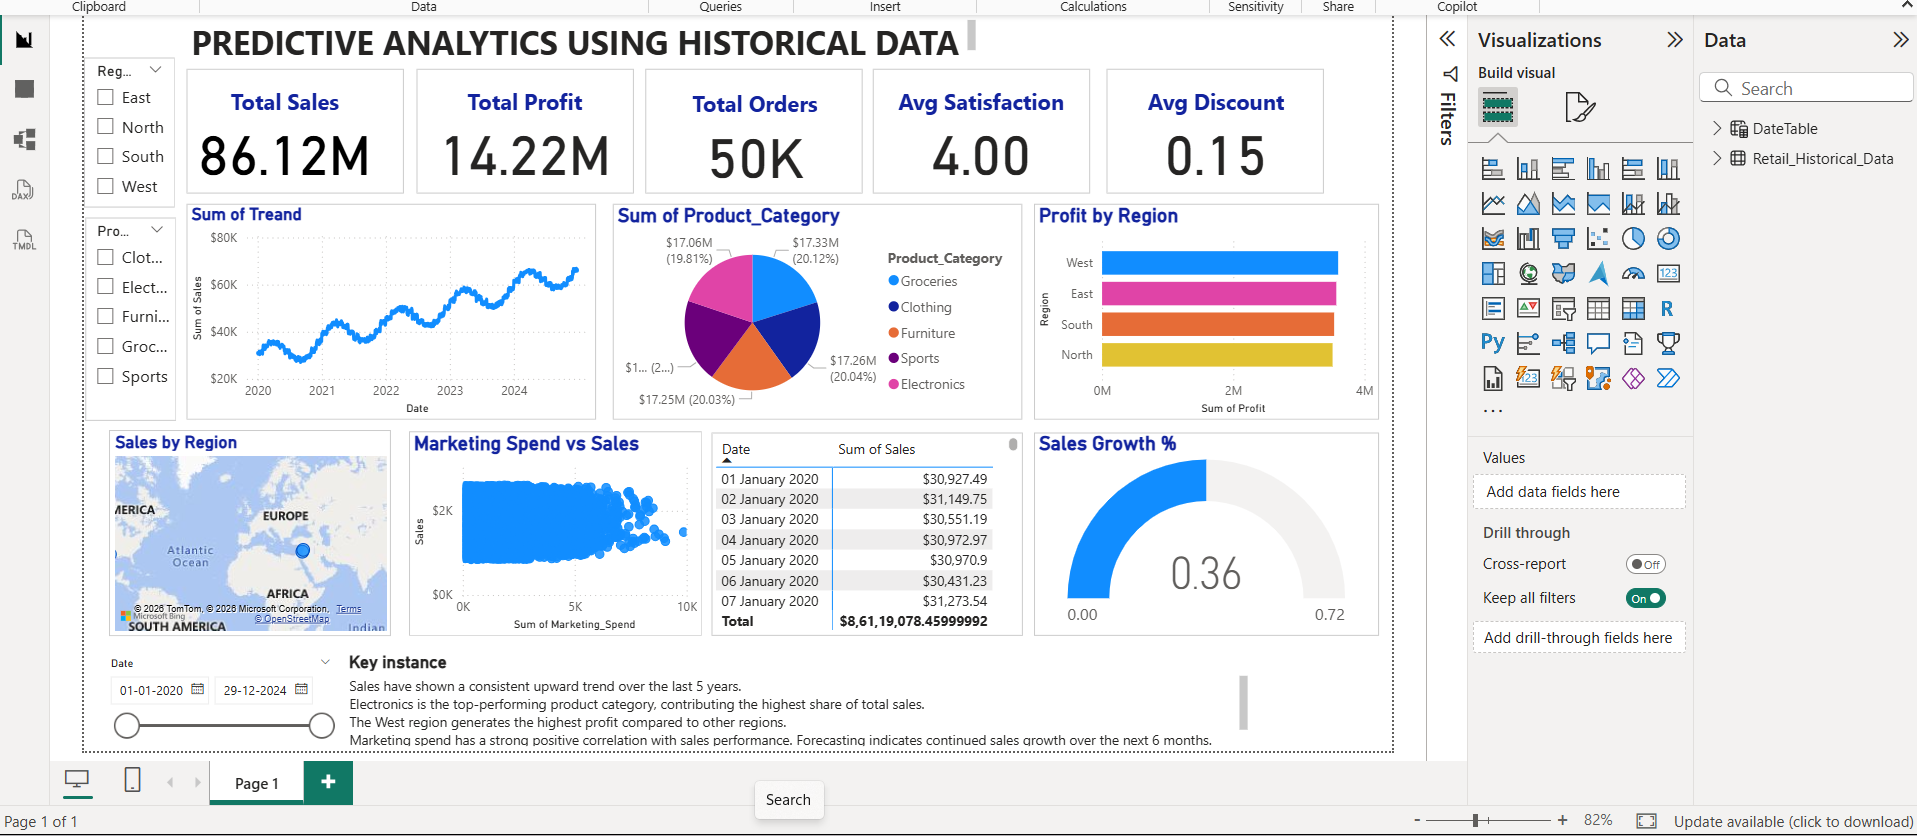

This screenshot's page, from the dashboard's own definition file:
{"tool":"powerbi","page":{"name":"Page 1","canvas":[1280,720],"ordinal":0},"visuals":[{"type":"shape","box":[1.4,197.6,89.2,199],"z":0},{"type":"slicer","fields":{"Values":["Retail_Historical_Data.Product_Category"]},"box":[0,197.6,90.6,199],"z":1000},{"type":"shape","box":[0,41.2,89.2,146.8],"z":2000},{"type":"shape","box":[613.4,408.9,304.6,199],"z":3000},{"type":"shape","box":[929,408.9,337.6,199],"z":4000},{"type":"shape","box":[24.7,406.2,275.8,201.7],"z":5000},{"type":"shape","box":[1000.3,52.1,212.7,122.1],"z":6000},{"type":"shape","box":[318.4,407.5,286.8,200.3],"z":7000},{"type":"shape","box":[929,185.2,337.6,211.3],"z":8000},{"type":"shape","box":[517.3,185.2,400.7,211.3],"z":9000},{"type":"pieChart","title":"Sum of Product_Category","fields":{"Category":["Retail_Historical_Data.Product_Category"],"Y":["Sum(Retail_Historical_Data.Sales)"]},"box":[517.3,185.2,400.7,211.3],"z":10000},{"type":"shape","box":[100.2,185.2,400.7,211.3],"z":11000},{"type":"shape","box":[325.2,52.1,212.7,122.1],"z":12000},{"type":"cardVisual","fields":{"Data":["Retail_Historical_Data.Total Profit"]},"box":[325.2,52.1,212.7,122.1],"z":13000},{"type":"shape","box":[100.2,52.1,212.7,122.1],"z":14000},{"type":"cardVisual","fields":{"Data":["Retail_Historical_Data.Total Sales"]},"box":[90.6,52.1,212.7,119.4],"z":15000},{"type":"textbox","box":[100.2,0,776.7,52.1],"z":16000},{"type":"shape","box":[548.9,52.1,212.7,122.1],"z":17000},{"type":"shape","box":[771.2,52.1,212.7,122.1],"z":18000},{"type":"cardVisual","fields":{"Data":["Retail_Historical_Data.Total Orders"]},"box":[550.3,54.9,212.7,119.4],"z":19000},{"type":"cardVisual","fields":{"Data":["Retail_Historical_Data.Avg Satisfaction"]},"box":[771.2,52.1,212.7,122.1],"z":20000},{"type":"lineChart","title":"Sum of Treand","fields":{"Category":["Retail_Historical_Data.Date"],"Y":["Sum(Retail_Historical_Data.Sales)"]},"box":[100.2,185.2,400.7,211.3],"z":21000},{"type":"barChart","title":"Profit by Region","fields":{"Category":["Retail_Historical_Data.Region"],"Y":["Sum(Retail_Historical_Data.Profit)"]},"box":[929,185.2,337.6,211.3],"z":22000},{"type":"scatterChart","title":"Marketing Spend vs Sales","fields":{"X":["Sum(Retail_Historical_Data.Marketing_Spend)"],"Y":["Retail_Historical_Data.Sales"]},"box":[318.4,408.9,286.8,199],"z":23000},{"type":"cardVisual","fields":{"Data":["Retail_Historical_Data.Avg Discount"]},"box":[1001.7,52.1,212.7,122.1],"z":24000},{"type":"map","title":"Sales by Region","fields":{"Category":["Retail_Historical_Data.Region"],"Size":["Sum(Retail_Historical_Data.Sales)"]},"box":[26.1,407.5,275.8,200.3],"z":25000},{"type":"gauge","fields":{"Y":["Retail_Historical_Data.Sales Growth %"]},"box":[929,408.9,337.6,199],"z":26000},{"type":"pivotTable","fields":{"Rows":["Retail_Historical_Data.Date"],"Columns":["Retail_Historical_Data.Date"],"Values":["Sum(Retail_Historical_Data.Sales)"]},"box":[613.4,408.9,304.6,199],"z":27000},{"type":"slicer","title":"Date Range","fields":{"Values":["Retail_Historical_Data.Date"]},"box":[13.7,623,240.1,97.4],"z":28000},{"type":"slicer","fields":{"Values":["Retail_Historical_Data.Region"]},"box":[0,41.2,89.2,156.4],"z":29000},{"type":"textbox","title":"Key instance","box":[253.9,623,889.2,97.4],"z":29001}]}

Visuals, with their boxes on the page's 1280x720 design canvas (x1, y1, x2, y2). These are canvas units, not pixel positions in the 1917x836 screenshot, which may show the page scaled, cropped or inside an application window:
shape: [1, 198, 91, 397]
slicer - Retail_Historical_Data.Product_Category: [0, 198, 91, 397]
shape: [0, 41, 89, 188]
shape: [613, 409, 918, 608]
shape: [929, 409, 1267, 608]
shape: [25, 406, 300, 608]
shape: [1000, 52, 1213, 174]
shape: [318, 408, 605, 608]
shape: [929, 185, 1267, 396]
shape: [517, 185, 918, 396]
"Sum of Product_Category" pieChart: [517, 185, 918, 396]
shape: [100, 185, 501, 396]
shape: [325, 52, 538, 174]
cardVisual - Retail_Historical_Data.Total Profit: [325, 52, 538, 174]
shape: [100, 52, 313, 174]
cardVisual - Retail_Historical_Data.Total Sales: [91, 52, 303, 172]
textbox: [100, 0, 877, 52]
shape: [549, 52, 762, 174]
shape: [771, 52, 984, 174]
cardVisual - Retail_Historical_Data.Total Orders: [550, 55, 763, 174]
cardVisual - Retail_Historical_Data.Avg Satisfaction: [771, 52, 984, 174]
"Sum of Treand" lineChart: [100, 185, 501, 396]
"Profit by Region" barChart: [929, 185, 1267, 396]
"Marketing Spend vs Sales" scatterChart: [318, 409, 605, 608]
cardVisual - Retail_Historical_Data.Avg Discount: [1002, 52, 1214, 174]
"Sales by Region" map: [26, 408, 302, 608]
gauge - Retail_Historical_Data.Sales Growth %: [929, 409, 1267, 608]
pivotTable - Retail_Historical_Data.Date x Retail_Historical_Data.Date: [613, 409, 918, 608]
"Date Range" slicer: [14, 623, 254, 720]
slicer - Retail_Historical_Data.Region: [0, 41, 89, 198]
"Key instance" textbox: [254, 623, 1143, 720]
